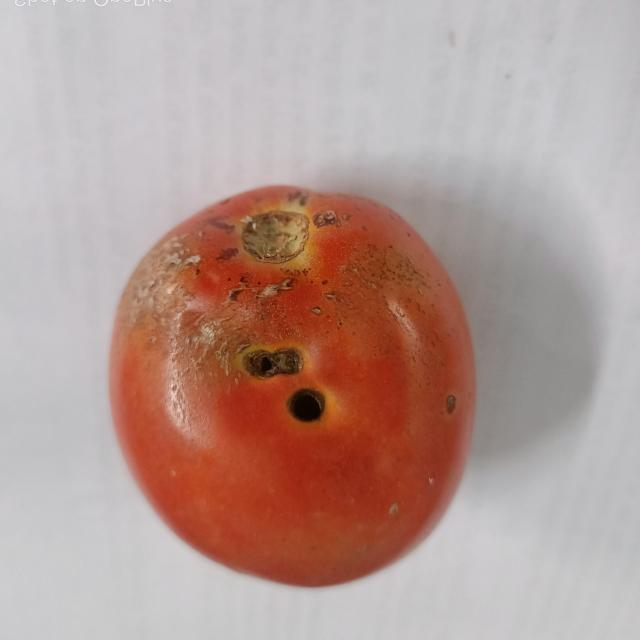fruitworm_bore: (234, 343, 334, 433)
